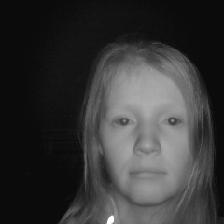normal: (80, 45, 212, 204)
